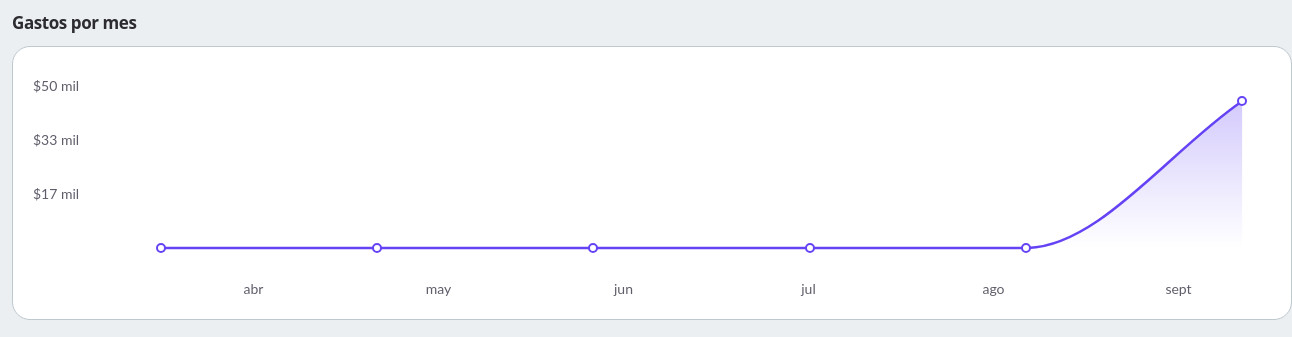
MonthlyTotalsChart › shows a tooltip with the exact total when a bar is tapped, and hides it when tapped again
Click the button named "sept: $45.230": (1168,171) [1065,67,1271,275]
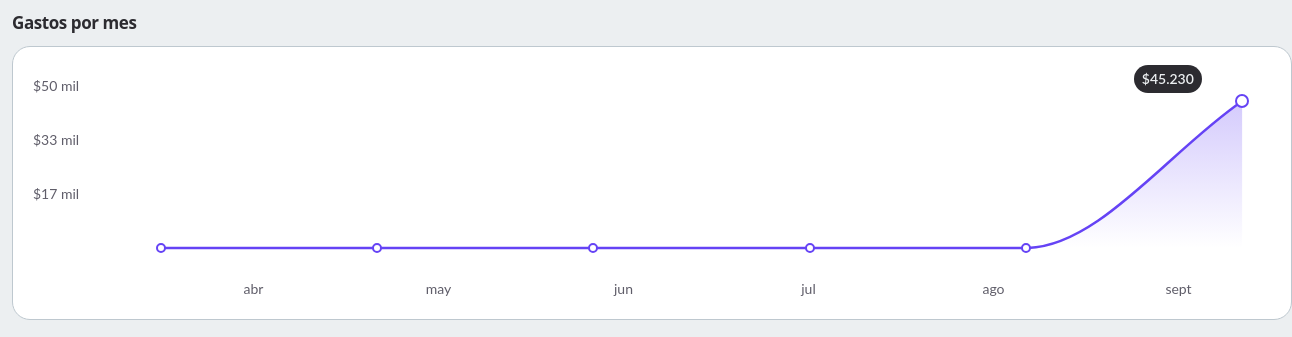
Now the tooltip reads "$45.230", box [1142,70,1194,87]
Now the button named "sept: $45.230" is expanded
Click the button named "sept: $45.230": (1168,171) [1065,67,1271,275]
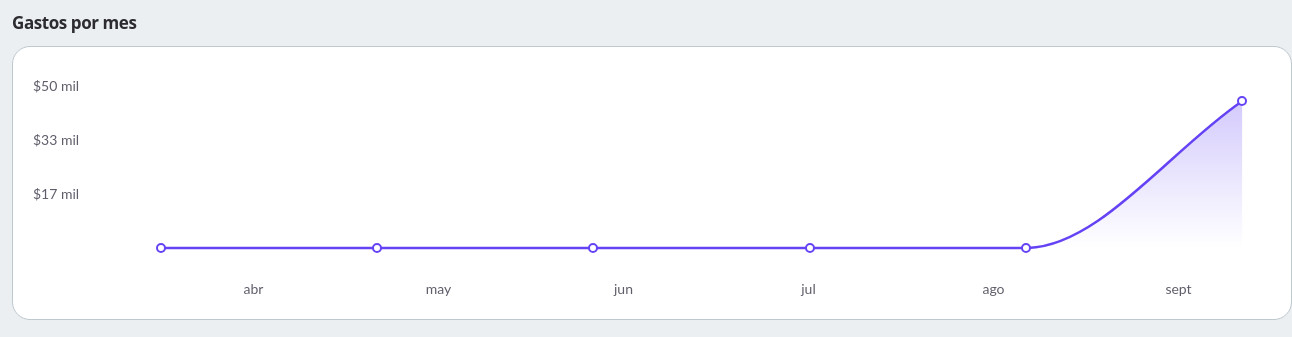
Now the tooltip "$45.230" is gone
Now the button named "sept: $45.230" is collapsed, box [1065,67,1271,275]
